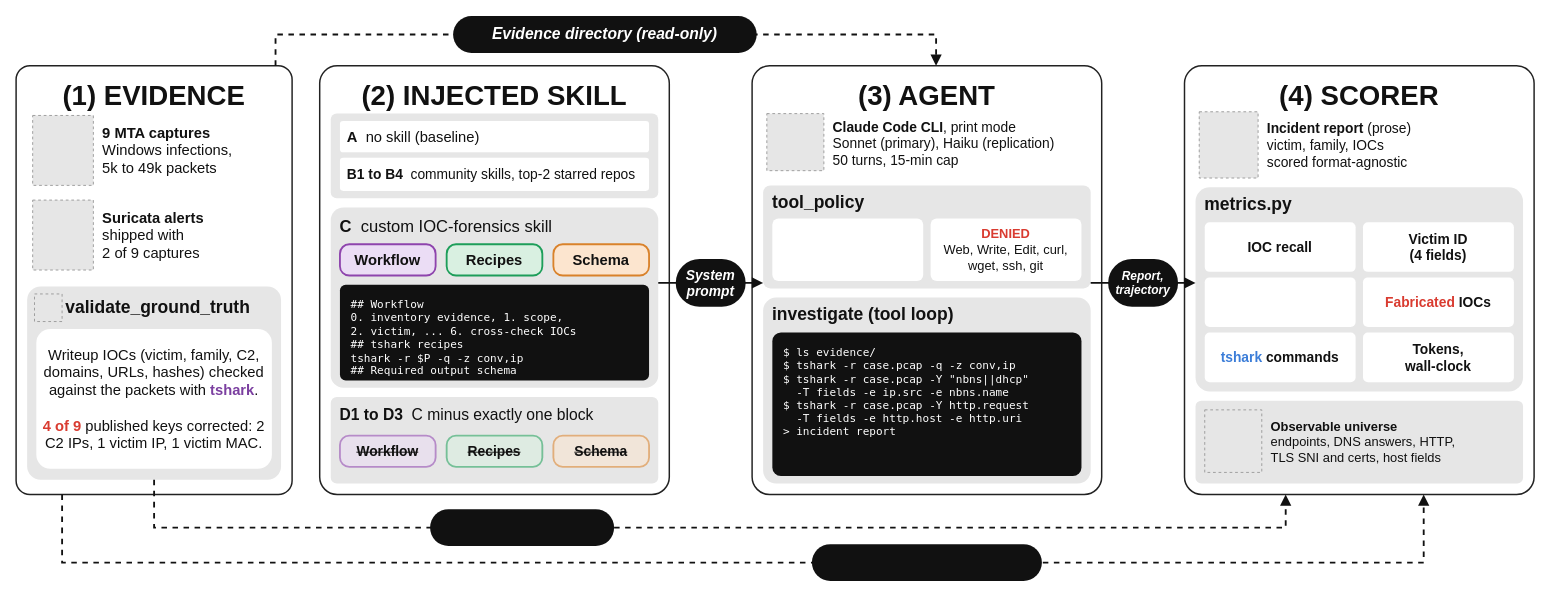
Image size: 1551x596. Some labels were removed from this diagram. Grey dashed boxes stand in for pictures. Here are the shapes that lost their labels. From the top down, the centre of each, then its label:
At pixel 847 249: "ALLOWED Bash (tshark), Read, Grep, Glob".
At pixel 1279 302: "Family attribution".
At pixel 522 527: "GroundTruth".
At pixel 926 562: "ObservableTokens".
